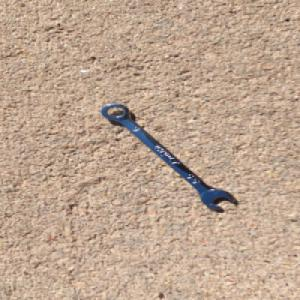Wrench: (100, 102, 237, 210)
